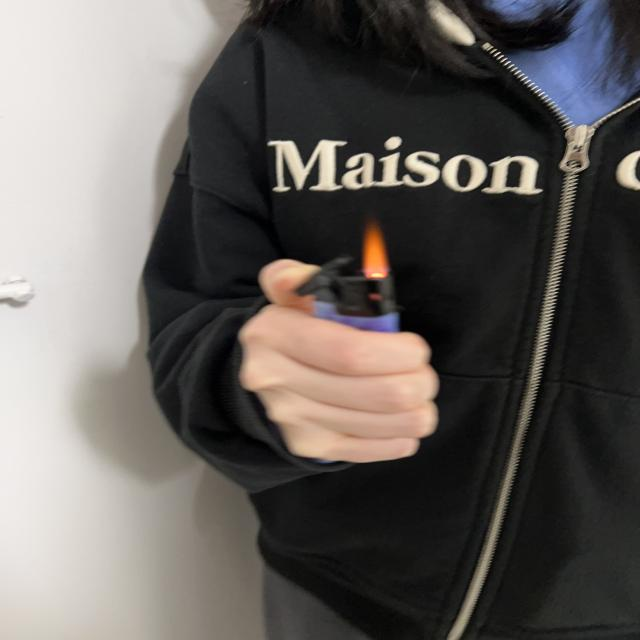fire: (361, 215, 392, 279)
